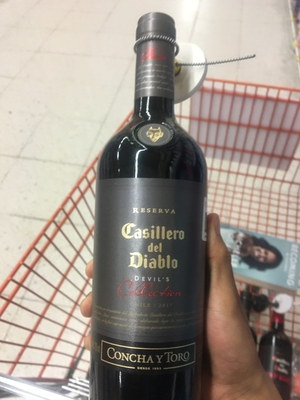casillero del diablo devils collection rojo: (95, 14, 215, 397)
